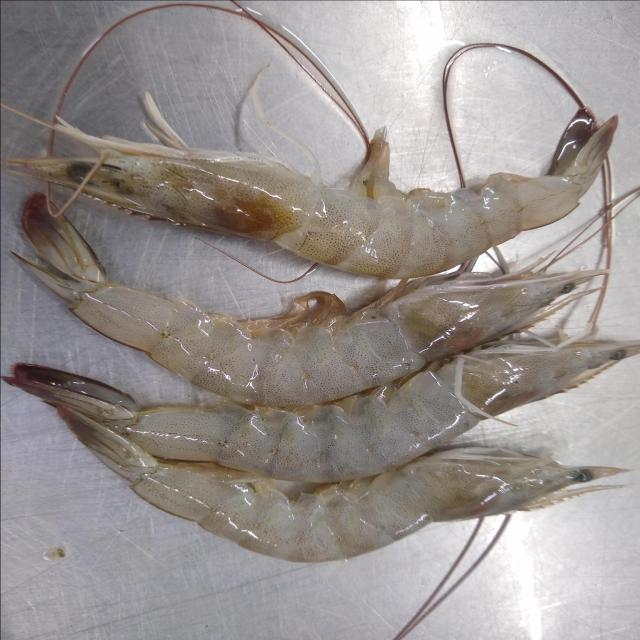shrimp: (16, 197, 602, 407), (6, 94, 619, 278), (53, 404, 625, 563), (3, 342, 640, 482)
